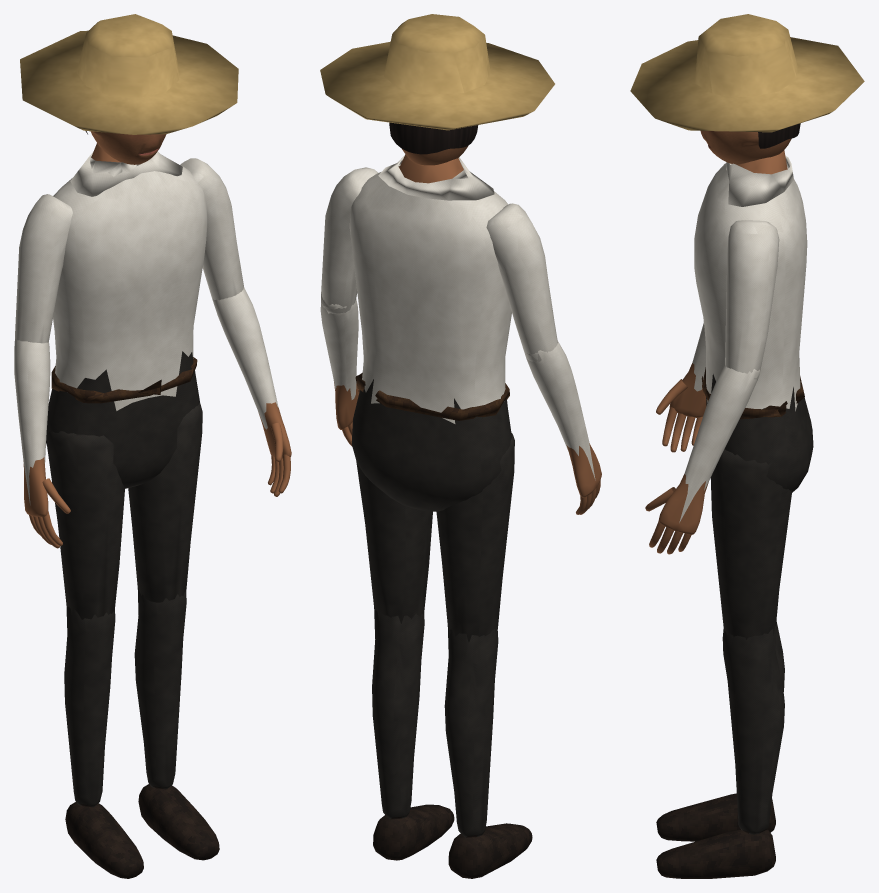
The model's file is persona_hombre_a_medio.obj.
3 renders of one model, left to right at view 1: azimuth 30°, elevation 25°; view 2: azimuth 150°, elevation 25°; view 3: azimuth 270°, elevation 25°, orthographic. The views are drawn at different scales.
Visible parts, largest first — view 1: Torso, Sombrero, PiernaIzq, PiernaDer, MusloDer, MusloIzq, BrazoDer, AntebrazoDer, AntebrazoIzq, BrazoIzq, Cuello, Cabeza (+1 smaller); view 2: Torso, Sombrero, PiernaDer, PiernaIzq, MusloDer, MusloIzq, BrazoDer, AntebrazoDer, BrazoIzq, AntebrazoIzq, Cuello, Pelo (+2 smaller); view 3: Torso, Sombrero, PiernaIzq, MusloIzq, BrazoIzq, AntebrazoIzq, PiernaDer, AntebrazoDer, Cuello, Cabeza, Cinturon, Pelo.
Boxes of the visible parts, x1,y1,x2,y2 form: Torso: [46, 143, 207, 488]; Sombrero: [20, 14, 238, 134]; PiernaIzq: [134, 588, 219, 860]; PiernaDer: [64, 606, 143, 878]; MusloDer: [47, 431, 124, 619]; MusloIzq: [128, 403, 202, 602]; BrazoDer: [15, 194, 72, 343]; AntebrazoDer: [14, 339, 70, 548]; AntebrazoIzq: [212, 287, 291, 496]; BrazoIzq: [180, 158, 243, 300]; Cuello: [70, 151, 182, 196]; Cabeza: [90, 131, 166, 164]; Torso: [349, 154, 511, 511]; Sombrero: [320, 14, 554, 130]; PiernaDer: [444, 625, 532, 878]; PiernaIzq: [372, 607, 454, 860]; MusloDer: [436, 433, 514, 642]; MusloIzq: [356, 461, 432, 623]; BrazoDer: [486, 203, 557, 361]; AntebrazoDer: [526, 341, 601, 514]; BrazoIzq: [321, 167, 377, 313]; AntebrazoIzq: [320, 294, 359, 446]; Cuello: [378, 155, 494, 200]; Pelo: [389, 122, 478, 154]; Torso: [694, 150, 813, 492]; Sombrero: [630, 14, 864, 132]; PiernaIzq: [656, 625, 784, 878]; MusloIzq: [710, 449, 791, 639]; BrazoIzq: [725, 220, 779, 380]; AntebrazoIzq: [645, 365, 760, 554]; PiernaDer: [656, 620, 784, 841]; AntebrazoDer: [656, 322, 706, 452]; Cuello: [726, 156, 793, 206]; Cabeza: [700, 130, 791, 164]; Cinturon: [701, 367, 804, 419]; Pelo: [758, 123, 800, 148].
Size of the model in its own units: 0.5819 by 1.81 by 0.4628.
Materials: 13 (13 with a texture image).
